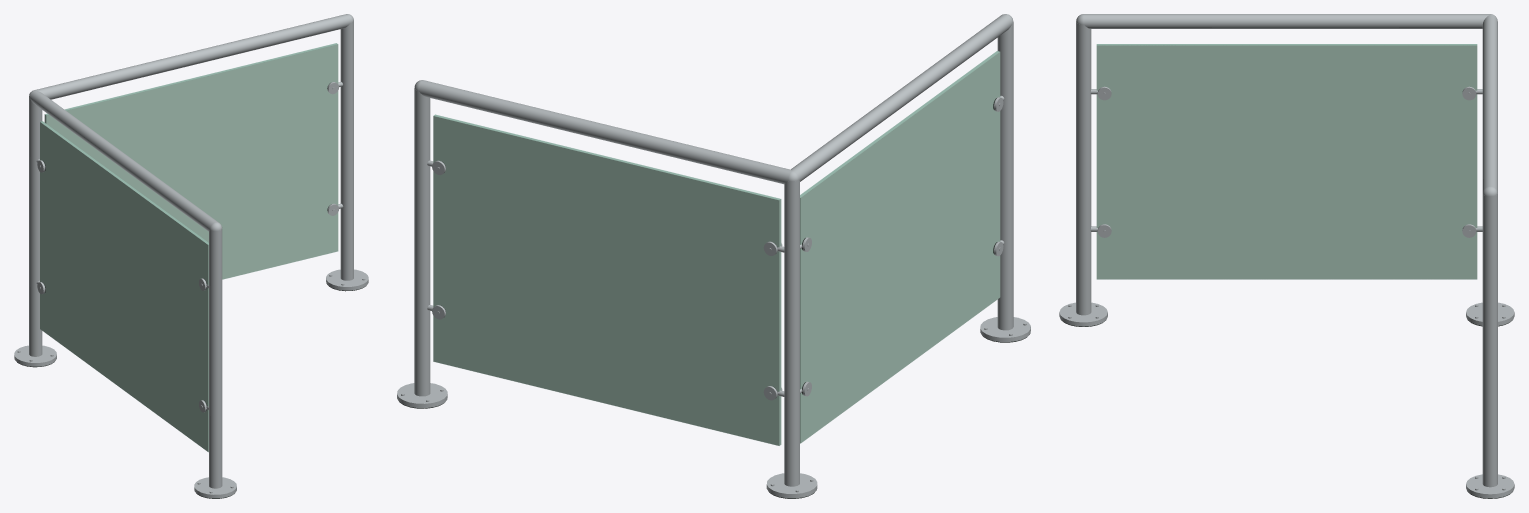
The model's file is glass-corner.glb.
3 renders of one model, left to right at view 1: azimuth 30°, elevation 25°; view 2: azimuth 150°, elevation 25°; view 3: azimuth 270°, elevation 25°, orthographic. The views are drawn at different scales.
Visible parts, largest first — view 1: glass_panel (×2), upright (×3), handrail (×2), fixed_flange (×3), glass_edge (×2); view 2: glass_panel (×2), upright (×3), handrail (×2), fixed_flange (×3), glass_edge (×2); view 3: glass_panel, upright (×2), handrail (×2), fixed_flange (×3), glass_edge.
Part boxes in pixels (x1=…): glass_panel (×2): x1=40, y1=43, x2=338, y2=451; upright (×3): x1=29, y1=21, x2=353, y2=488; handrail (×2): x1=30, y1=14, x2=350, y2=231; fixed_flange (×3): x1=14, y1=269, x2=368, y2=498; glass_edge (×2): x1=40, y1=43, x2=337, y2=244; glass_panel (×2): x1=433, y1=51, x2=1000, y2=445; upright (×3): x1=414, y1=22, x2=1013, y2=486; handrail (×2): x1=418, y1=14, x2=1012, y2=184; fixed_flange (×3): x1=397, y1=317, x2=1030, y2=498; glass_edge (×2): x1=434, y1=51, x2=999, y2=200; glass_panel: x1=1096, y1=44, x2=1477, y2=279; upright (×2): x1=1076, y1=22, x2=1497, y2=487; handrail (×2): x1=1083, y1=14, x2=1497, y2=192; fixed_flange (×3): x1=1059, y1=302, x2=1514, y2=498; glass_edge: x1=1097, y1=44, x2=1476, y2=45.
Bounding box in the file's own units: 1.5 × 1.1 × 1.5.
